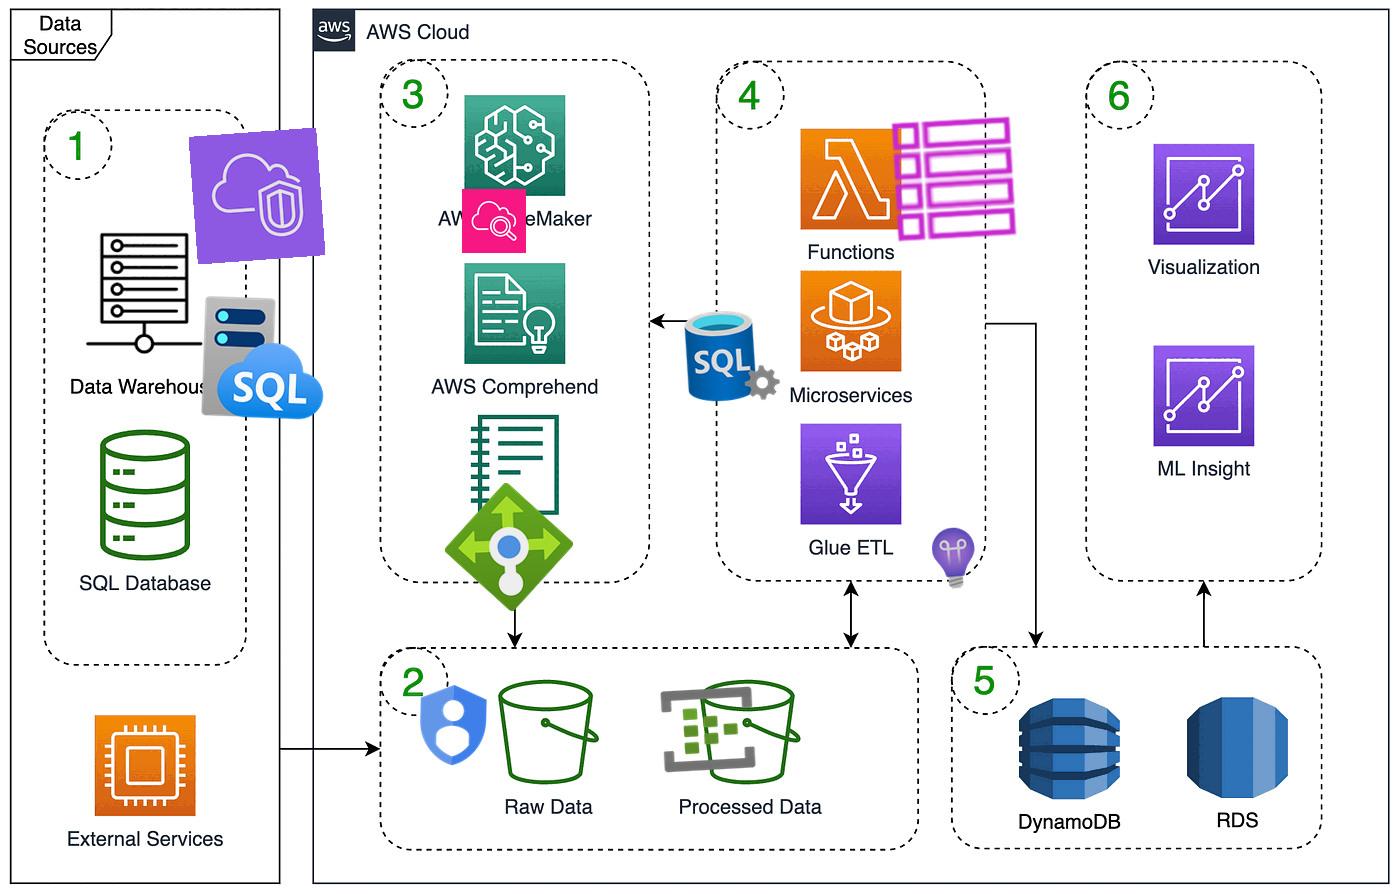aws_amazon_cloudwatch: (461, 188, 527, 254)
aws_amazon_virtual_private_cloud: (188, 127, 326, 265)
aws_dynamodb_table: (886, 111, 1022, 247)
azure_application_insights: (919, 523, 989, 593)
azure_event_hubs: (657, 678, 759, 780)
azure_load_balancers: (441, 479, 577, 615)
azure_sql_managed_instance: (197, 291, 331, 425)
azure_sql_server: (681, 305, 783, 407)
gcp_identity_and_access_management: (403, 675, 503, 775)
